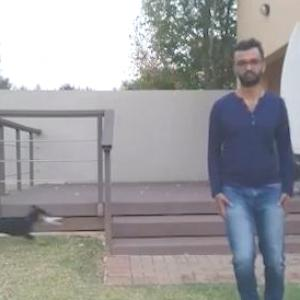follow: (192, 28, 298, 299)
